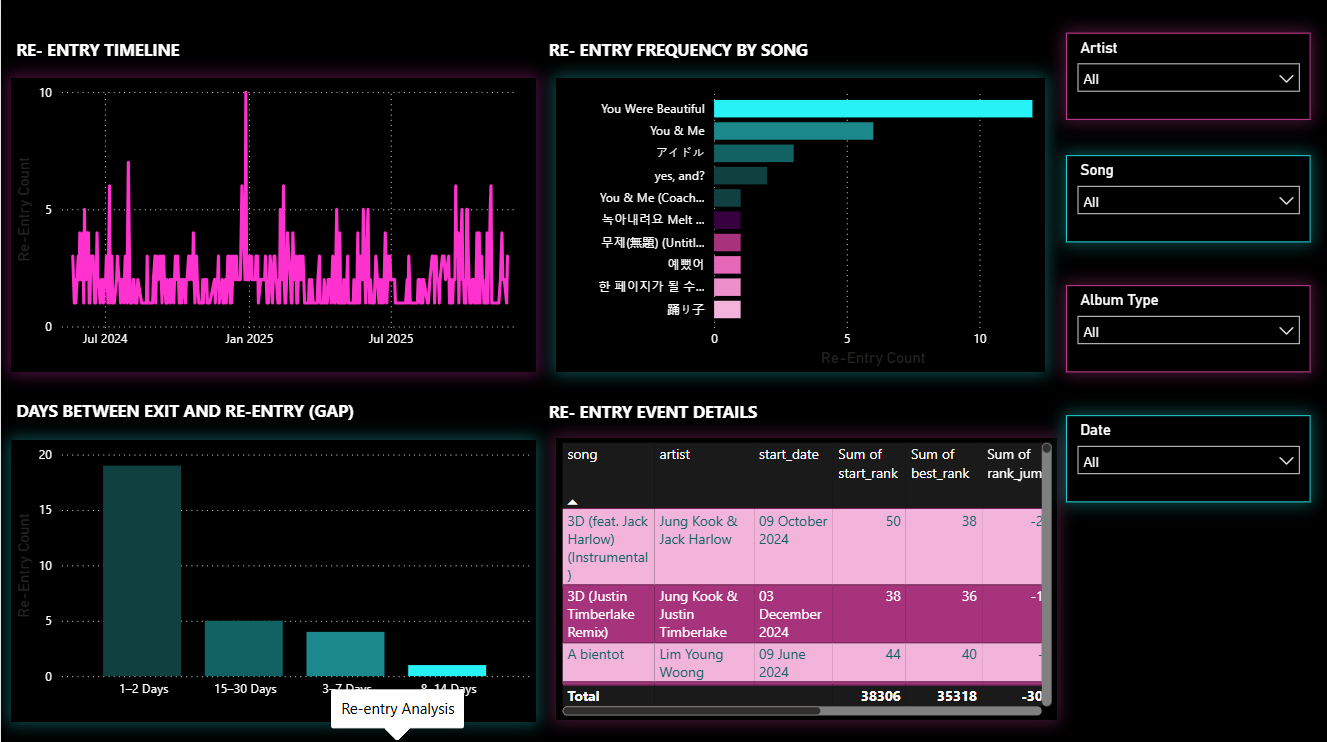

This screenshot's page, from the dashboard's own definition file:
{"tool":"powerbi","page":{"name":"Re-entry Analysis","canvas":[1280,720],"ordinal":2},"visuals":[{"type":"tableEx","fields":{"Values":["Reentry.song","Reentry.artist","Reentry.start_date","Sum(Reentry.start_rank)","Sum(Reentry.best_rank)","Sum(Reentry.rank_jump)","Sum(Reentry.gap_days)","Sum(Reentry.days_to_best)","Sum(Reentry.days)","Sum(Reentry.momentum_spike_score)"]},"box":[535.2,424,483,273.1],"z":0},{"type":"slicer","fields":{"Values":["DimSong.Artist"]},"box":[1027.8,32.9,236,83.7],"z":1000},{"type":"textbox","box":[9.4,32.9,495.2,42.3],"z":2000},{"type":"textbox","box":[523.4,32.9,495.2,42.3],"z":3000},{"type":"textbox","box":[9.4,380.8,495.2,42.3],"z":4000},{"type":"textbox","box":[523.4,382.4,495.2,42.3],"z":5000},{"type":"lineChart","title":"South Korea Comeback Activity Over Time","fields":{"Y":["Reentry.Re-Entry Count"],"Category":["Atlantic_South_Korea_Reentry_Events.start_date.Variation.Date Hierarchy.Year"]},"box":[9.6,75.5,506.3,284],"z":6000},{"type":"clusteredBarChart","title":"South Korea Comeback Activity Over Time","fields":{"Y":["Reentry.Re-Entry Count"],"Category":["Reentry.song"]},"box":[535.2,75.5,472,284],"z":7000},{"type":"clusteredColumnChart","title":"South Korea Comeback Activity Over Time","fields":{"Y":["Reentry.Re-Entry Count"],"Category":["Reentry.Gap Category"]},"box":[9.6,425.4,506.3,271.7],"z":8000},{"type":"slicer","fields":{"Values":["DimSong.Song"]},"box":[1027.8,150.9,236,83.7],"z":9000},{"type":"slicer","fields":{"Values":["DimSong.Album Type"]},"box":[1027.8,275.8,236,83.7],"z":10000},{"type":"slicer","fields":{"Values":["DimDate.Date"]},"box":[1027.8,402.1,236,83.7],"z":11000}]}

Visuals, with their boxes in screenshot pixels (x1, y1, x2, y2), scaled from the page's 1280x720 canvas onto the 1327x742 screenshot:
tableEx - Reentry.song x Reentry.artist: 555/437/1056/718
slicer - DimSong.Artist: 1066/34/1310/120
textbox: 10/34/523/77
textbox: 543/34/1056/77
textbox: 10/392/523/436
textbox: 543/394/1056/438
"South Korea Comeback Activity Over Time" lineChart: 10/78/535/370
"South Korea Comeback Activity Over Time" clusteredBarChart: 555/78/1044/370
"South Korea Comeback Activity Over Time" clusteredColumnChart: 10/438/535/718
slicer - DimSong.Song: 1066/156/1310/242
slicer - DimSong.Album Type: 1066/284/1310/370
slicer - DimDate.Date: 1066/414/1310/501
